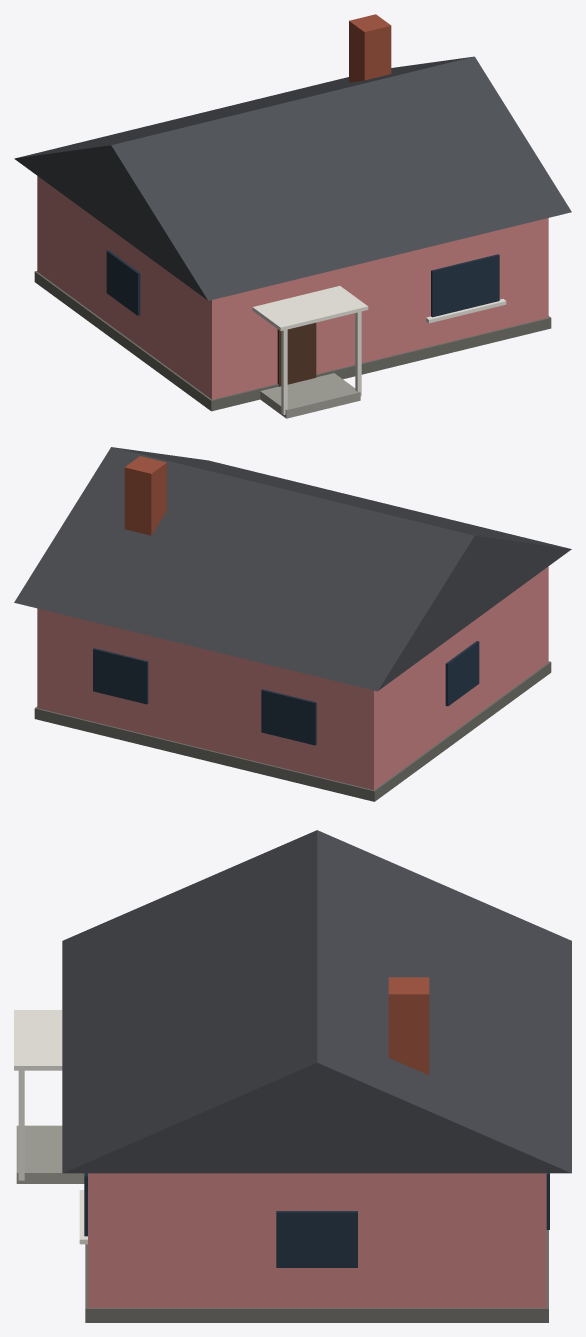
File: house_d.glb
The picture shows the model from 3 angles, top to bottom: view 1: azimuth 30°, elevation 25°; view 2: azimuth 150°, elevation 25°; view 3: azimuth 270°, elevation 25°; orthographic projection. The views are drawn at different scales.
Parts seen in each view (by area): view 1: house_d_Body; view 2: house_d_Body; view 3: house_d_Body.
Boxes of the visible parts, bbox=[...] form: house_d_Body: bbox=[14, 14, 571, 418]; house_d_Body: bbox=[14, 447, 571, 801]; house_d_Body: bbox=[14, 830, 571, 1322].
Bounding box in the file's own units: 10.8 × 6.5 × 10.95.
